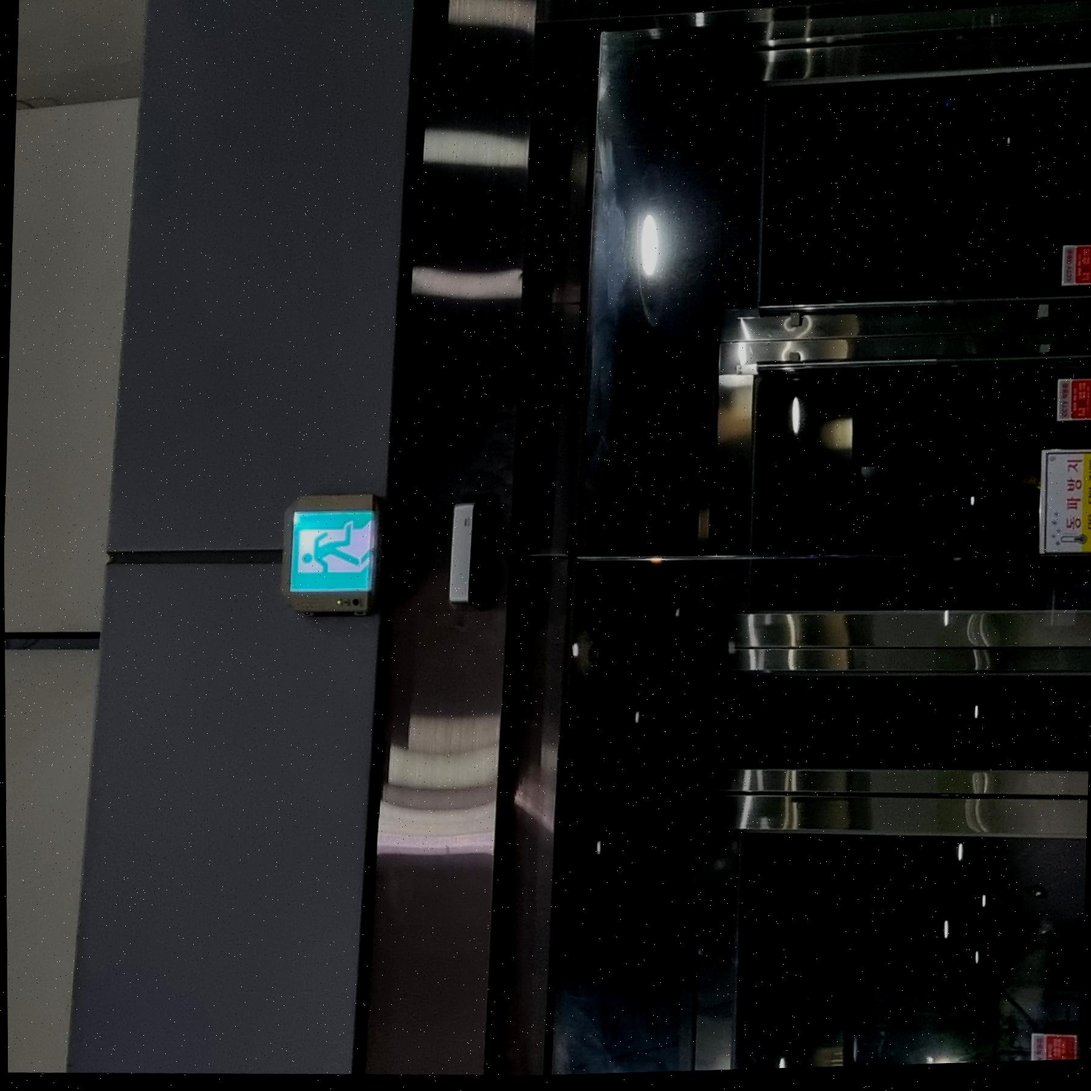emergency_exit: (280, 492, 381, 616), (1038, 446, 1089, 555), (1055, 375, 1090, 423), (1059, 242, 1090, 287)
